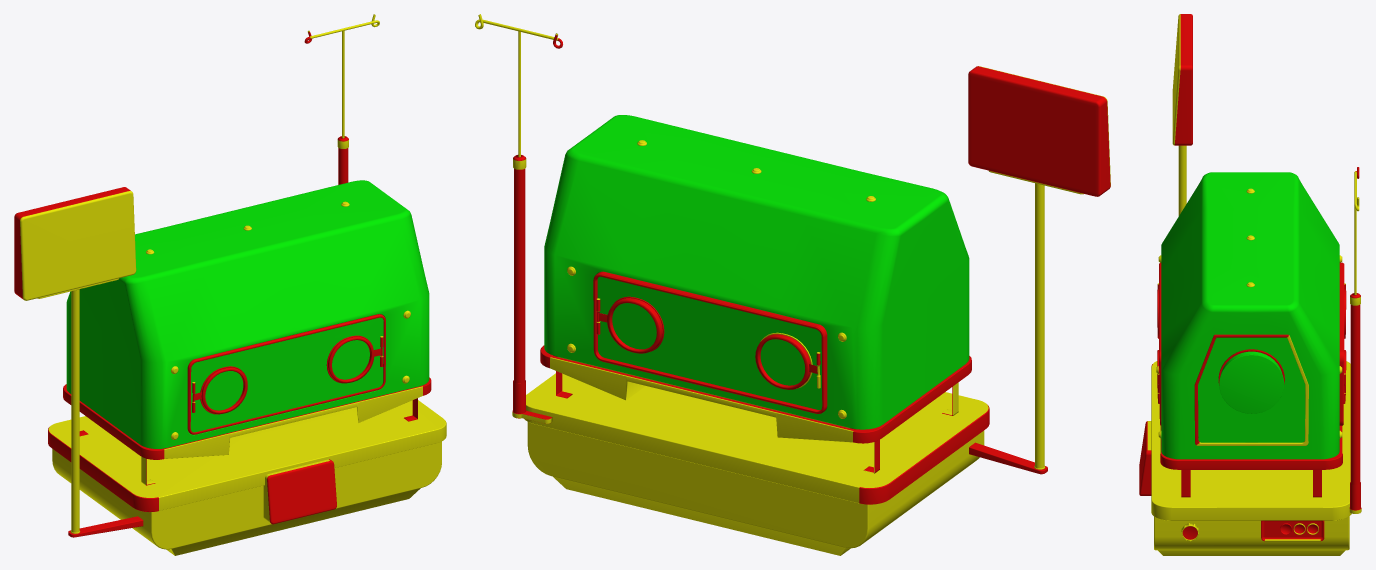
File: Equipment_3.fbx
The picture shows the model from 3 angles, left to right: view 1: azimuth 30°, elevation 25°; view 2: azimuth 150°, elevation 25°; view 3: azimuth 270°, elevation 25°; orthographic projection. The views are drawn at different scales.
Parts seen in each view (by area): view 1: polySurface222; view 2: polySurface222; view 3: polySurface222.
Part boxes in pixels (x1,y1,x2,y2): polySurface222: [14, 14, 446, 555]; polySurface222: [475, 14, 1110, 555]; polySurface222: [1139, 14, 1361, 555].
Bounding box in the file's own units: 133 × 112 × 58.12.
